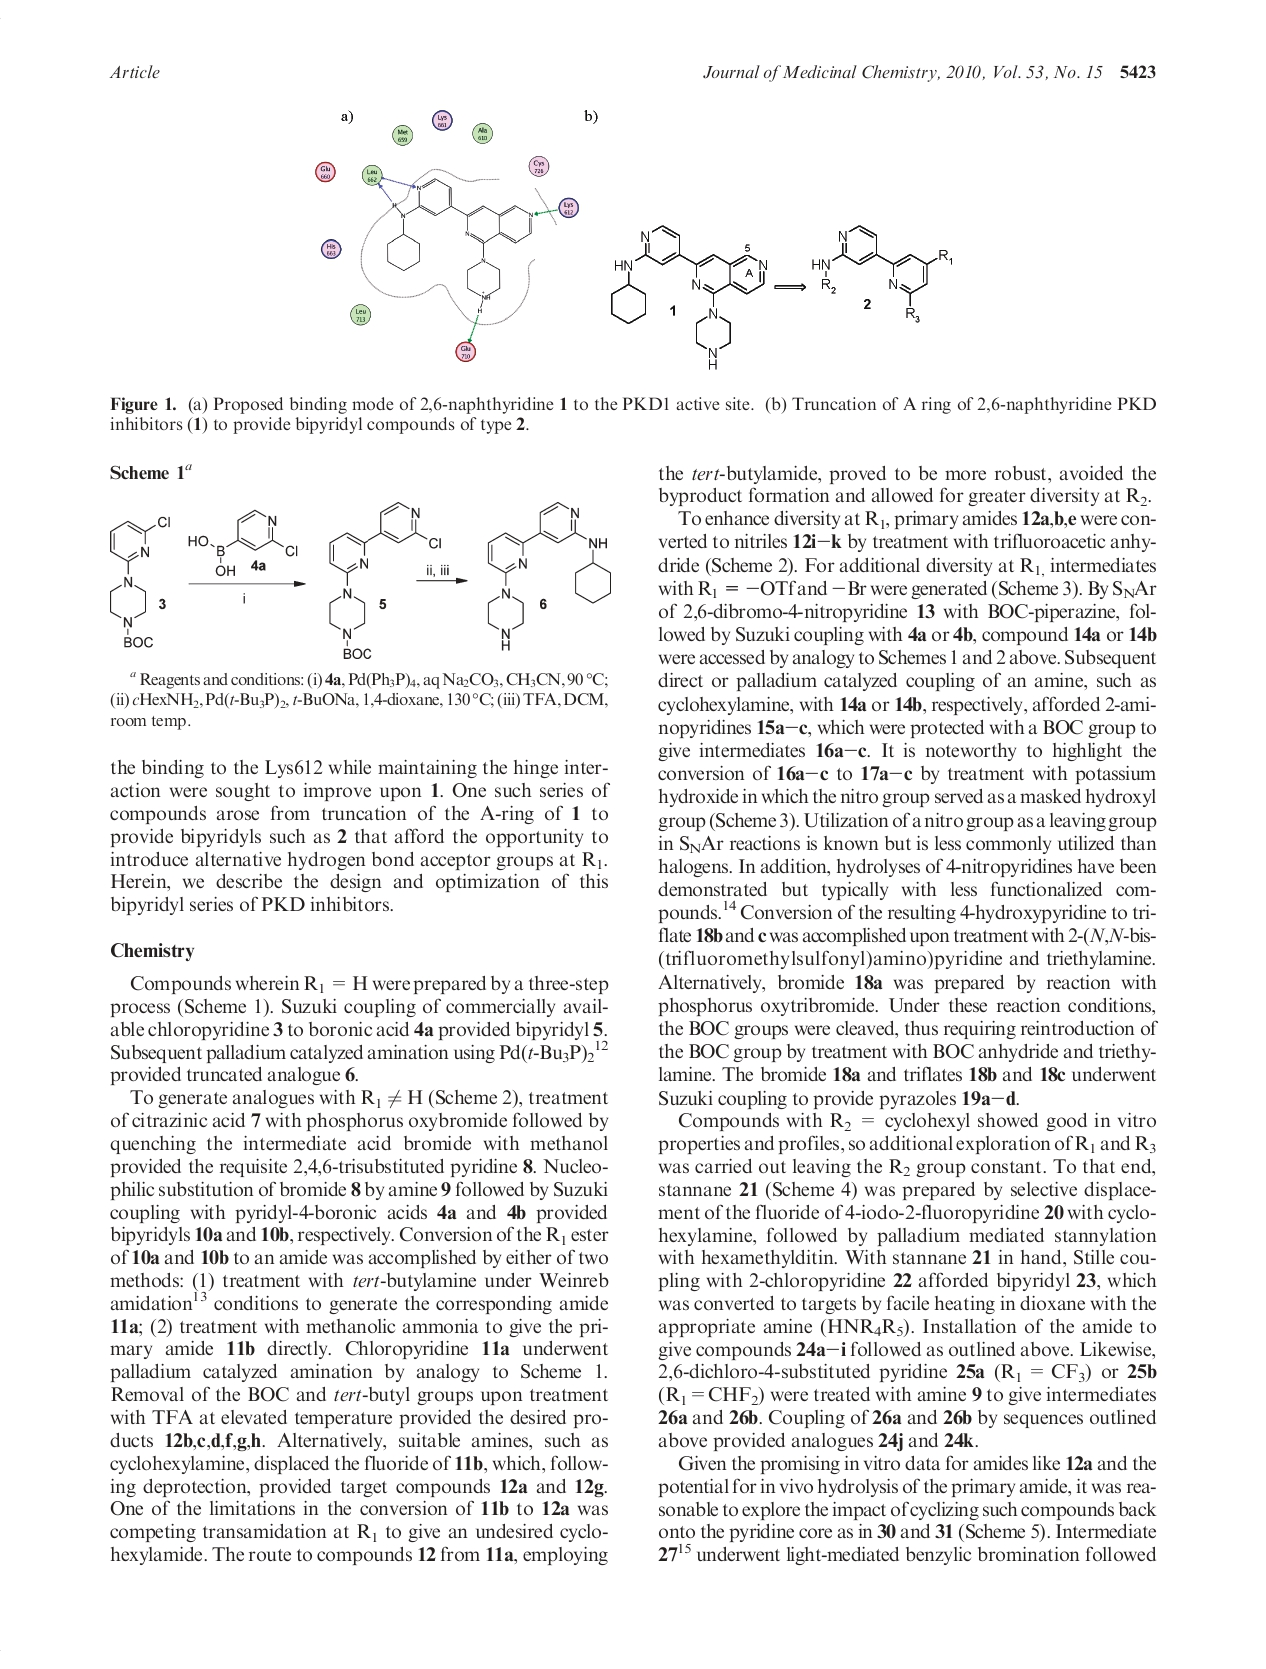exist_molecular: (363, 162, 547, 317), (606, 219, 773, 376), (481, 496, 618, 658), (320, 489, 444, 662), (806, 213, 952, 336), (97, 501, 176, 660), (184, 497, 305, 581)
